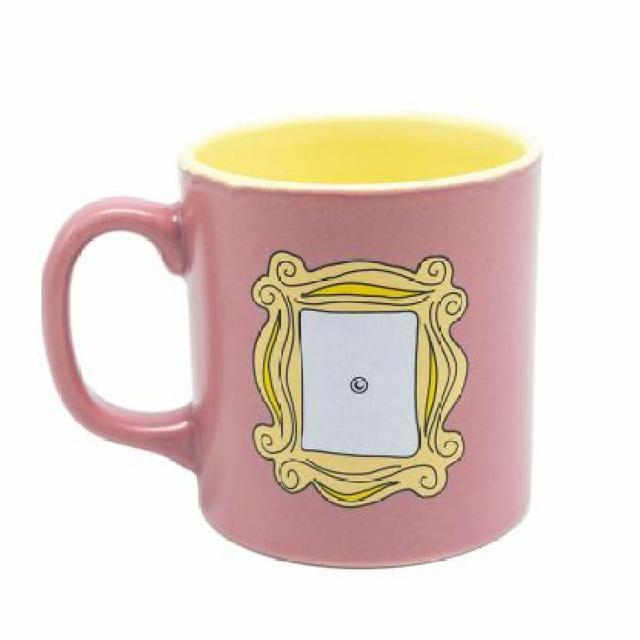taza: (34, 107, 552, 573)
